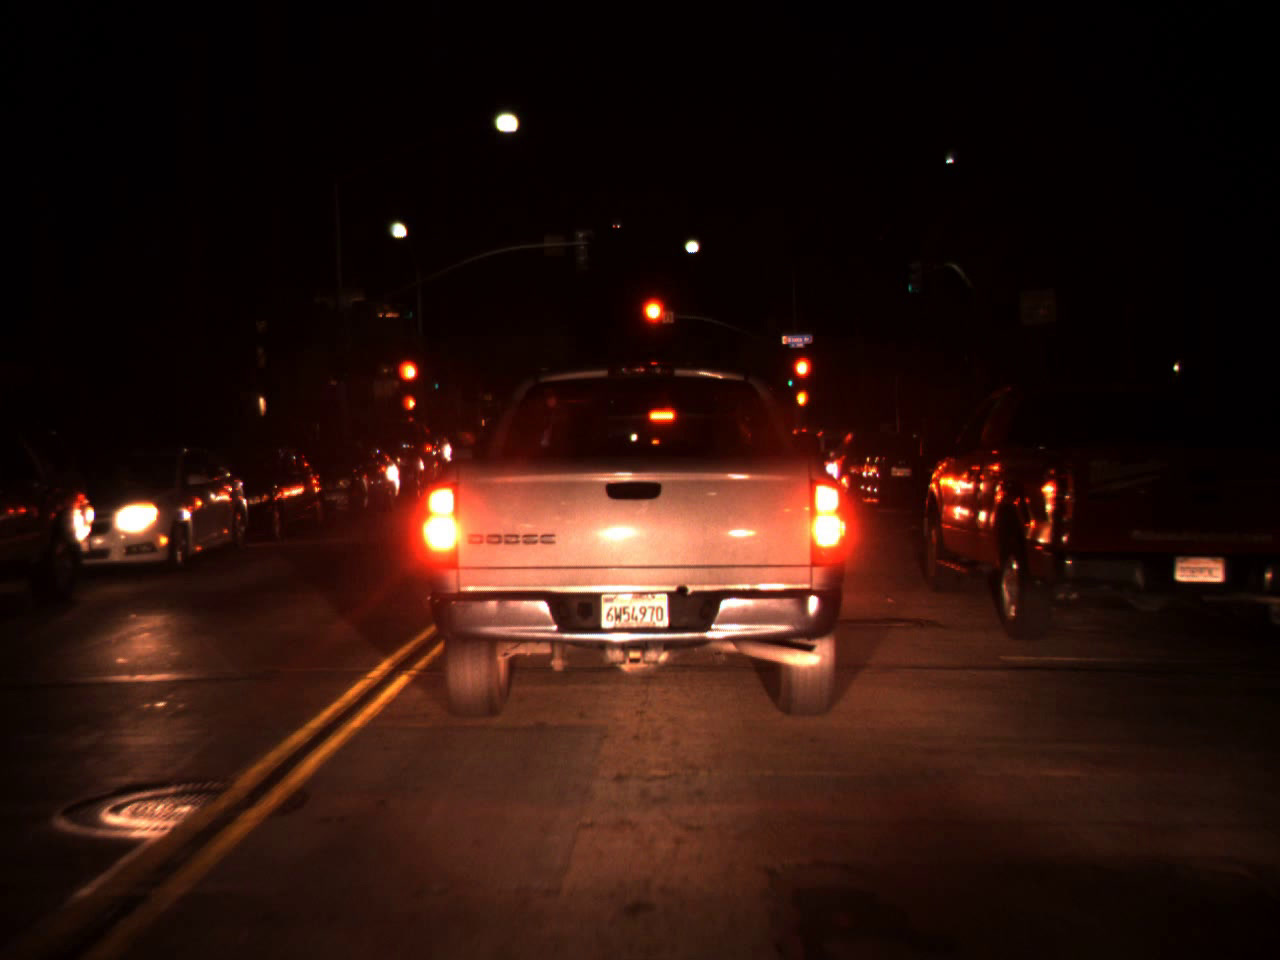stop: (639, 294, 669, 353), (790, 353, 814, 407), (395, 357, 422, 405)
